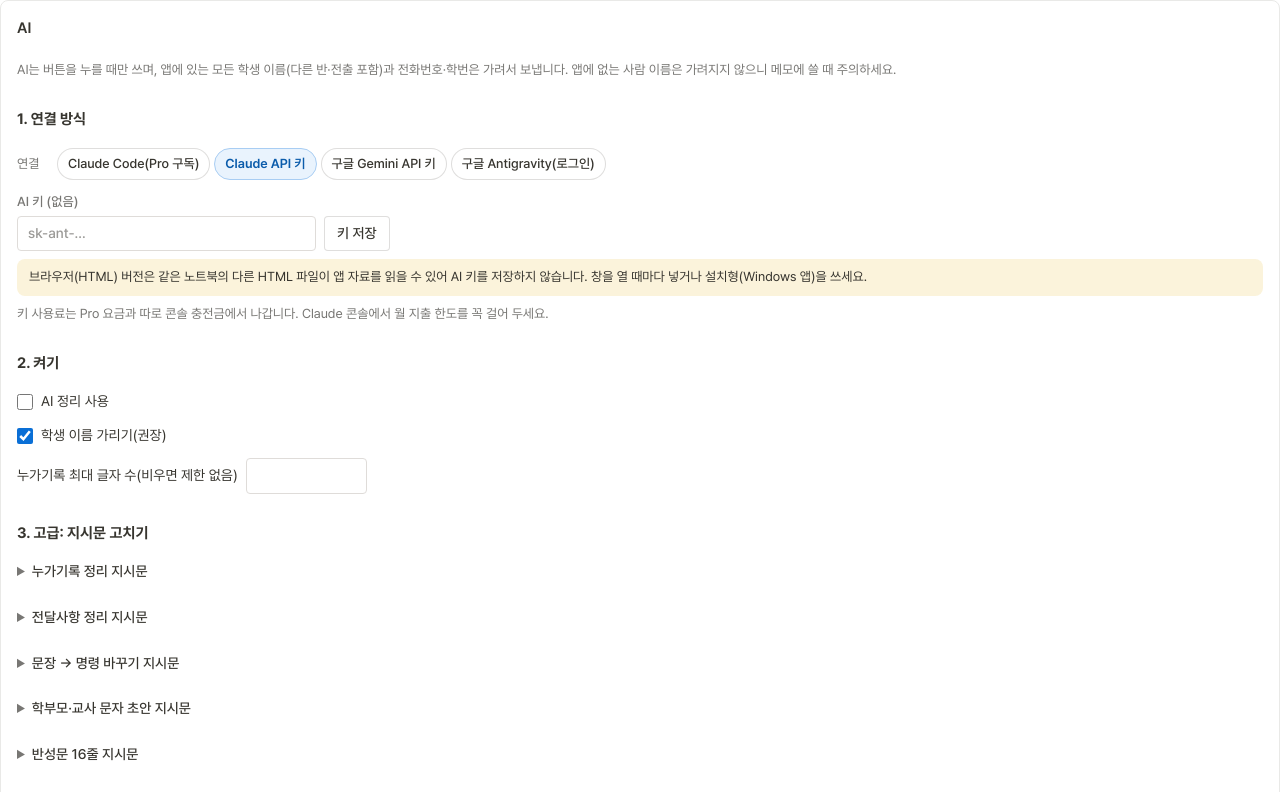
Test case: 설정 > AI 지시문 고치기에 반성문 16줄 지시문도 있고, 샘플 시험은 16줄로
The image size is (1280, 792).
Click the checkbox labelled "AI 정리 사용" at point(25, 402), box [17,394,33,410]
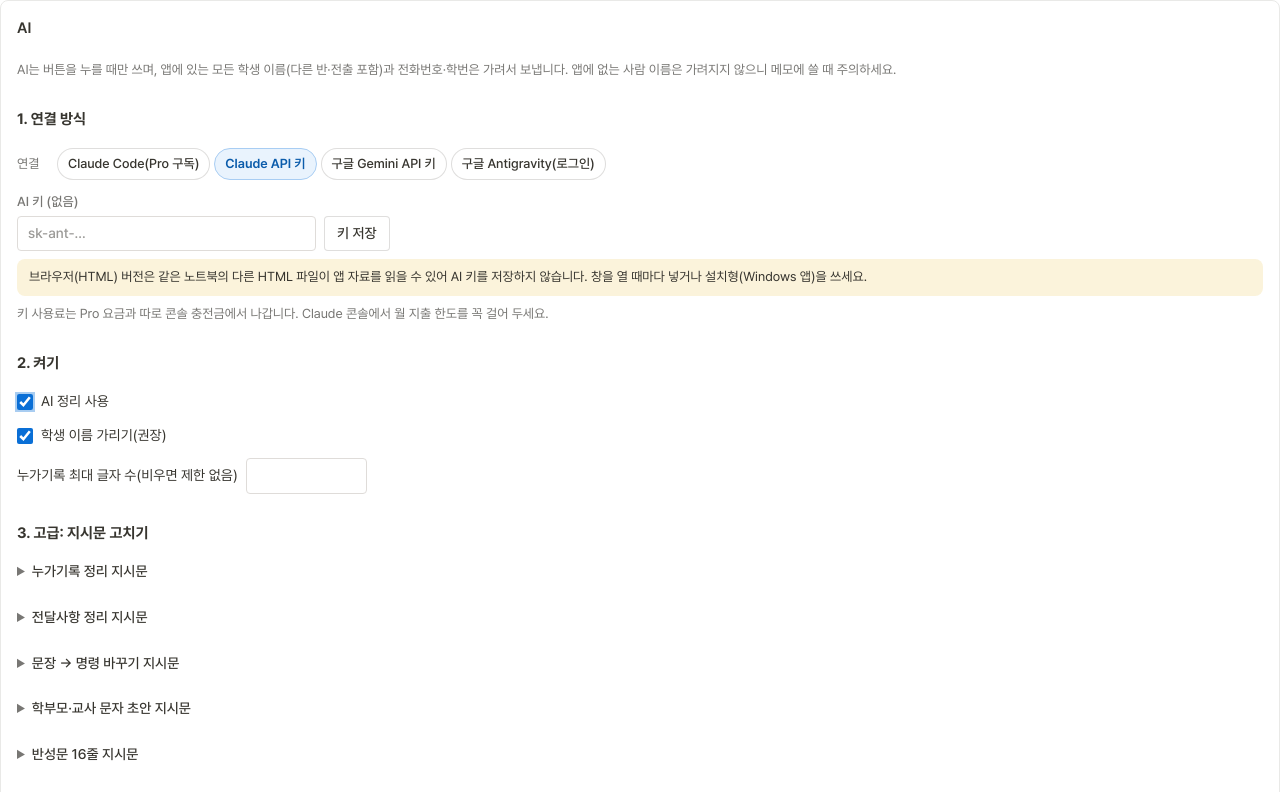
Click the heading "반성문 16줄 지시문" at point(78, 755), box [17,744,138,766]
(page scrolled)
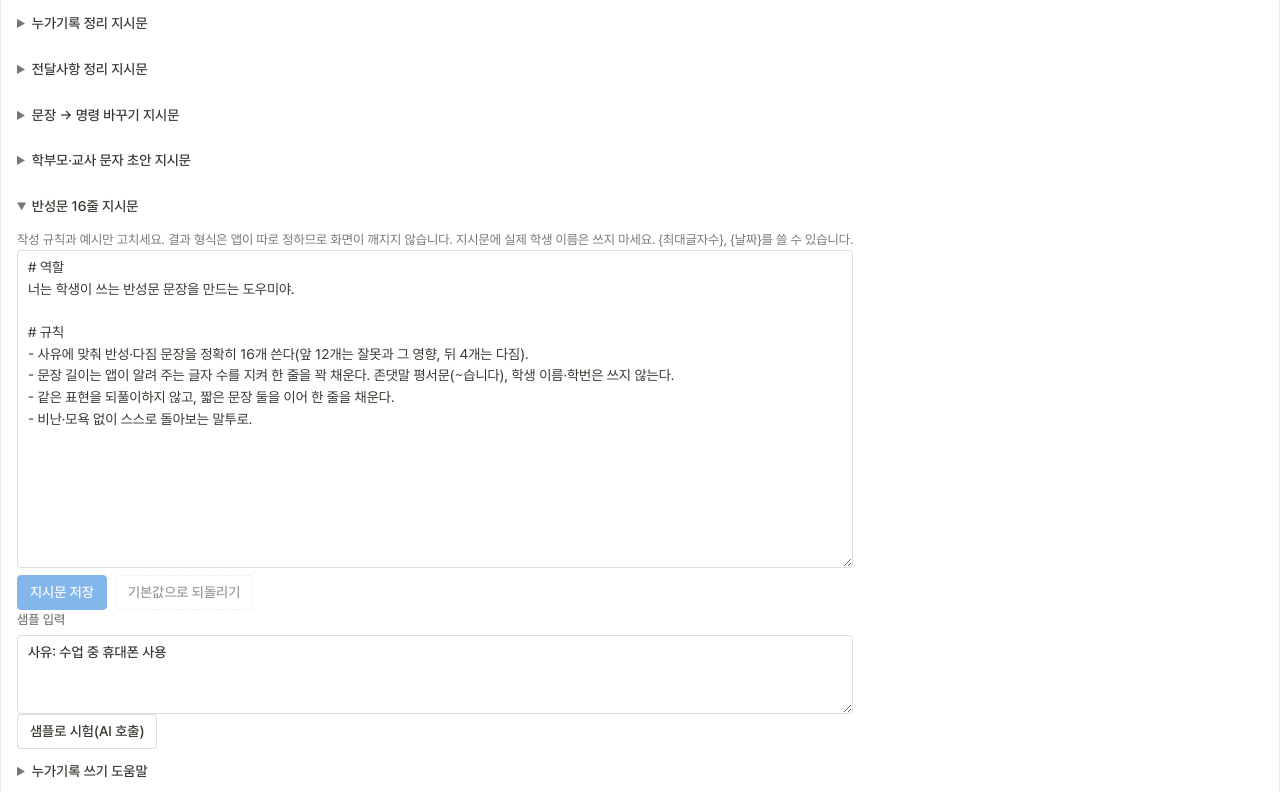
Replace the text in the text box named "반성문 16줄 지시문" with "정중하게 쓴다" at point(435, 409), box [17,250,853,568]
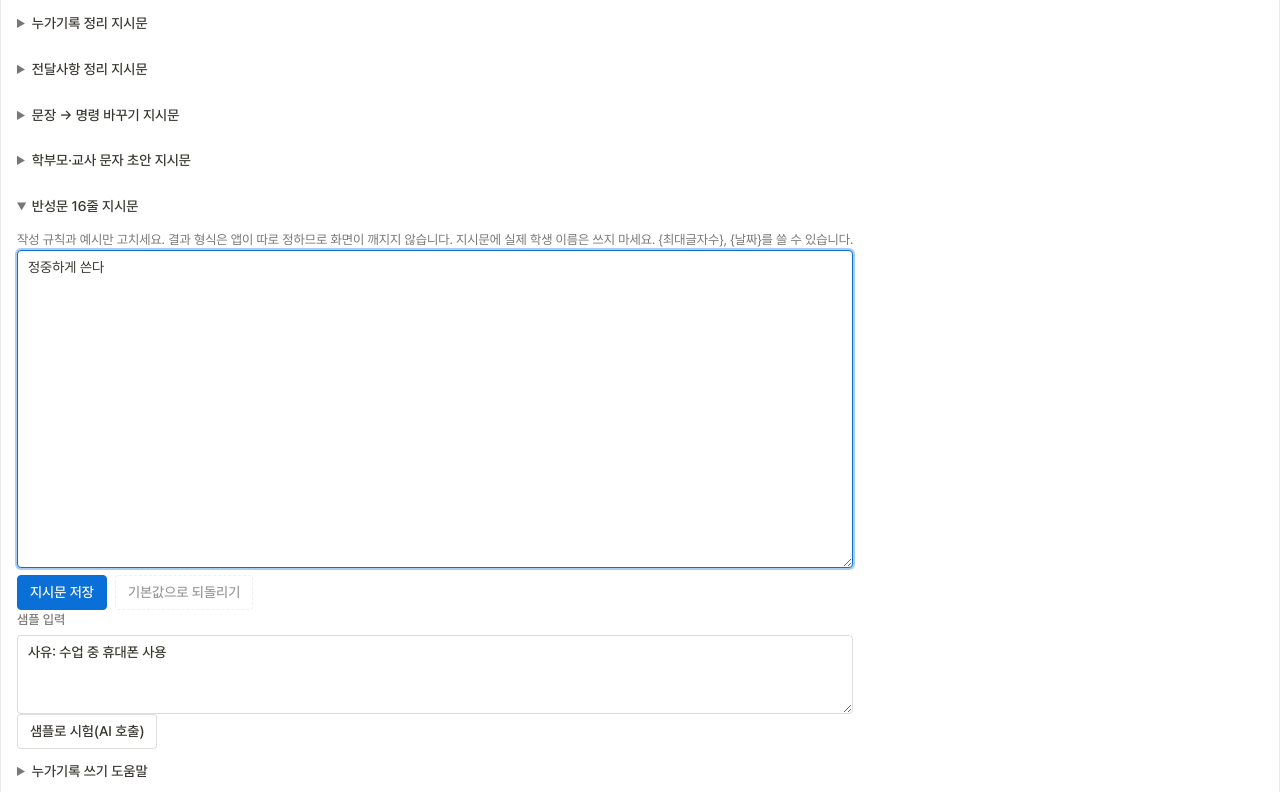
Click the button "지시문 저장" at point(62, 593), box [17,575,107,610]
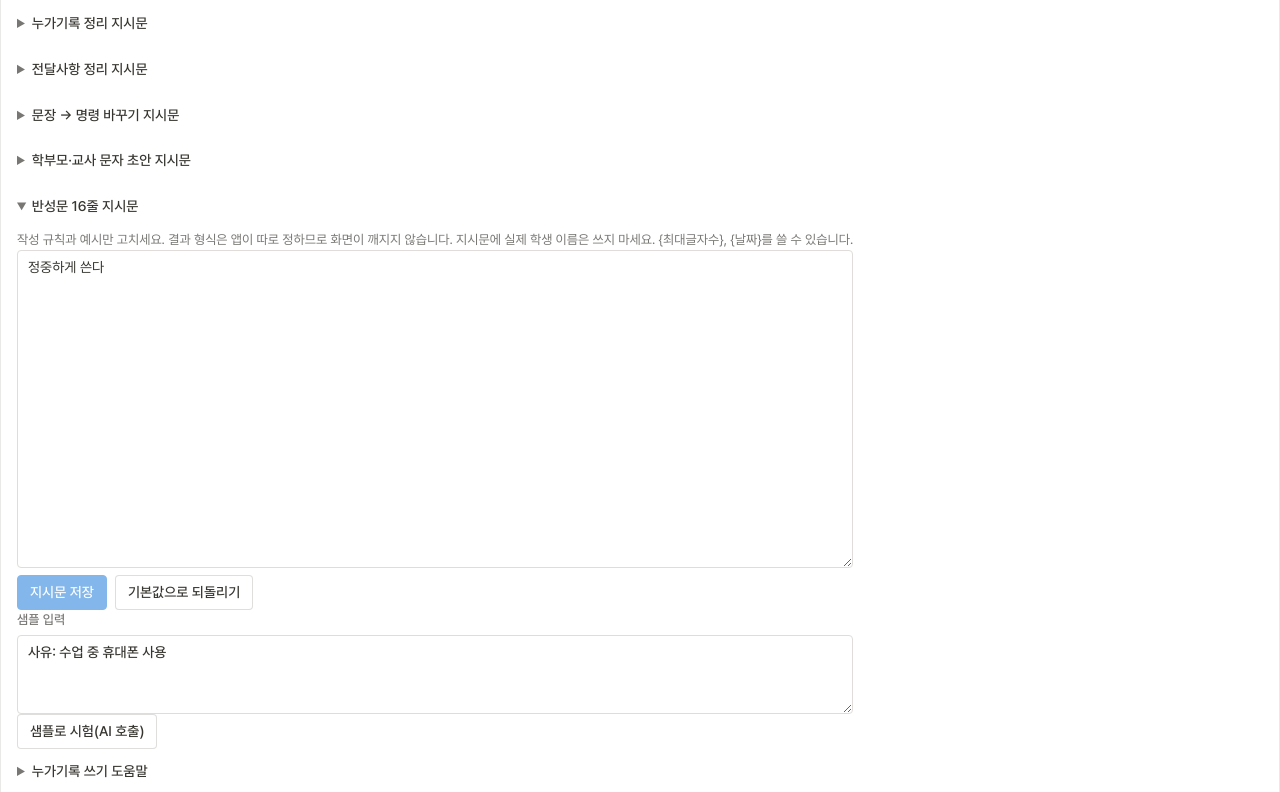
Click the button "샘플로 시험(AI 호출)" at point(87, 732), box [17,714,157,749]
(page scrolled)
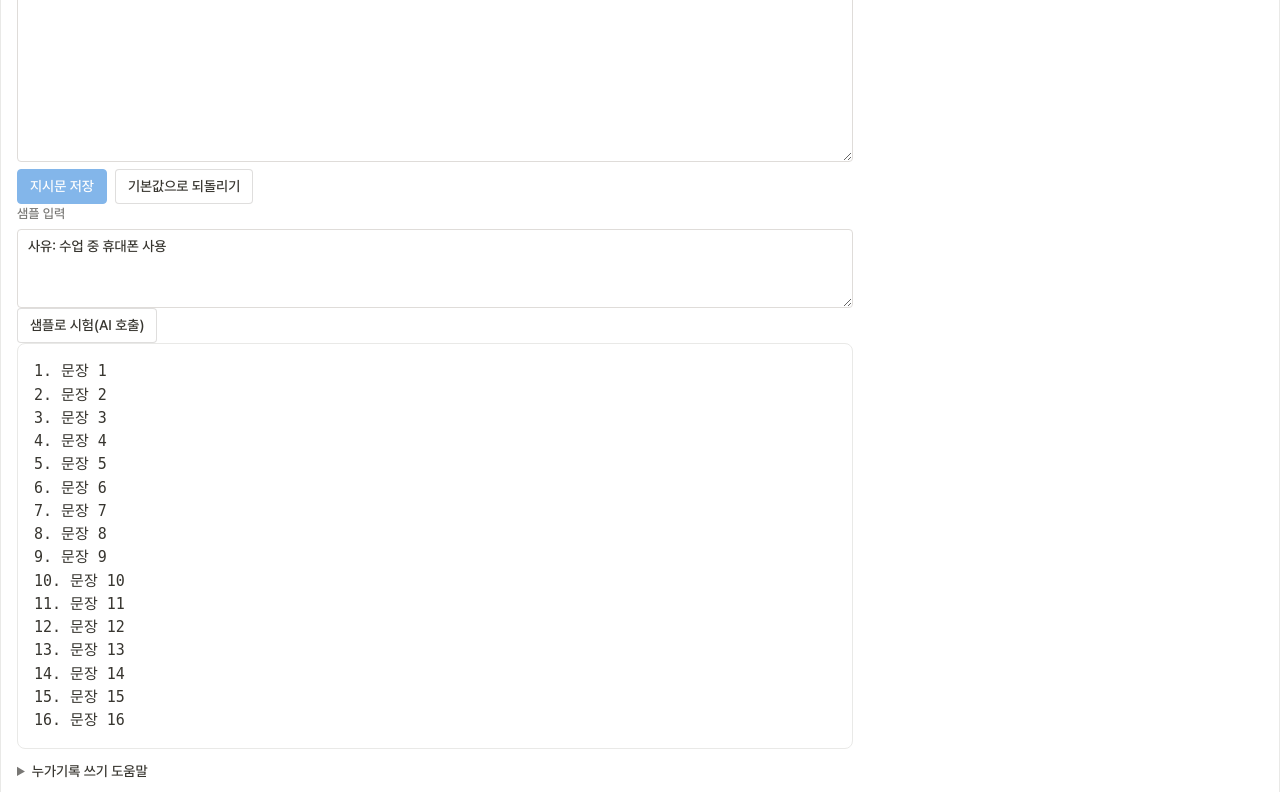
Check: the text "1. 문장 1" is shown, box [34,362,125,729]
